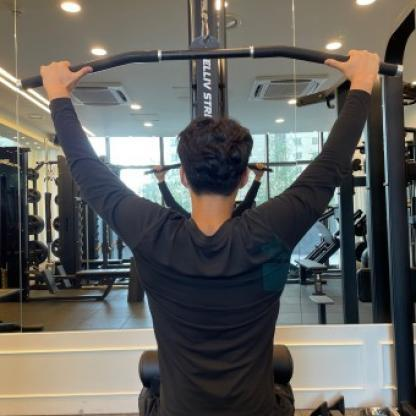Lat Pull Down: (14, 0, 416, 416)
